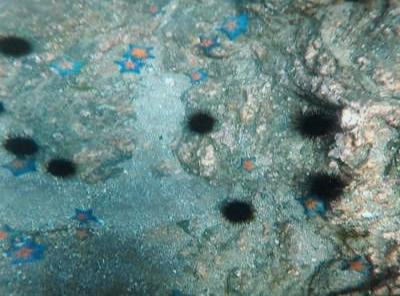urchin: (305, 166, 350, 203), (297, 108, 339, 138), (221, 196, 257, 226), (3, 131, 41, 159), (0, 33, 35, 60), (187, 108, 217, 137), (45, 155, 77, 180)
